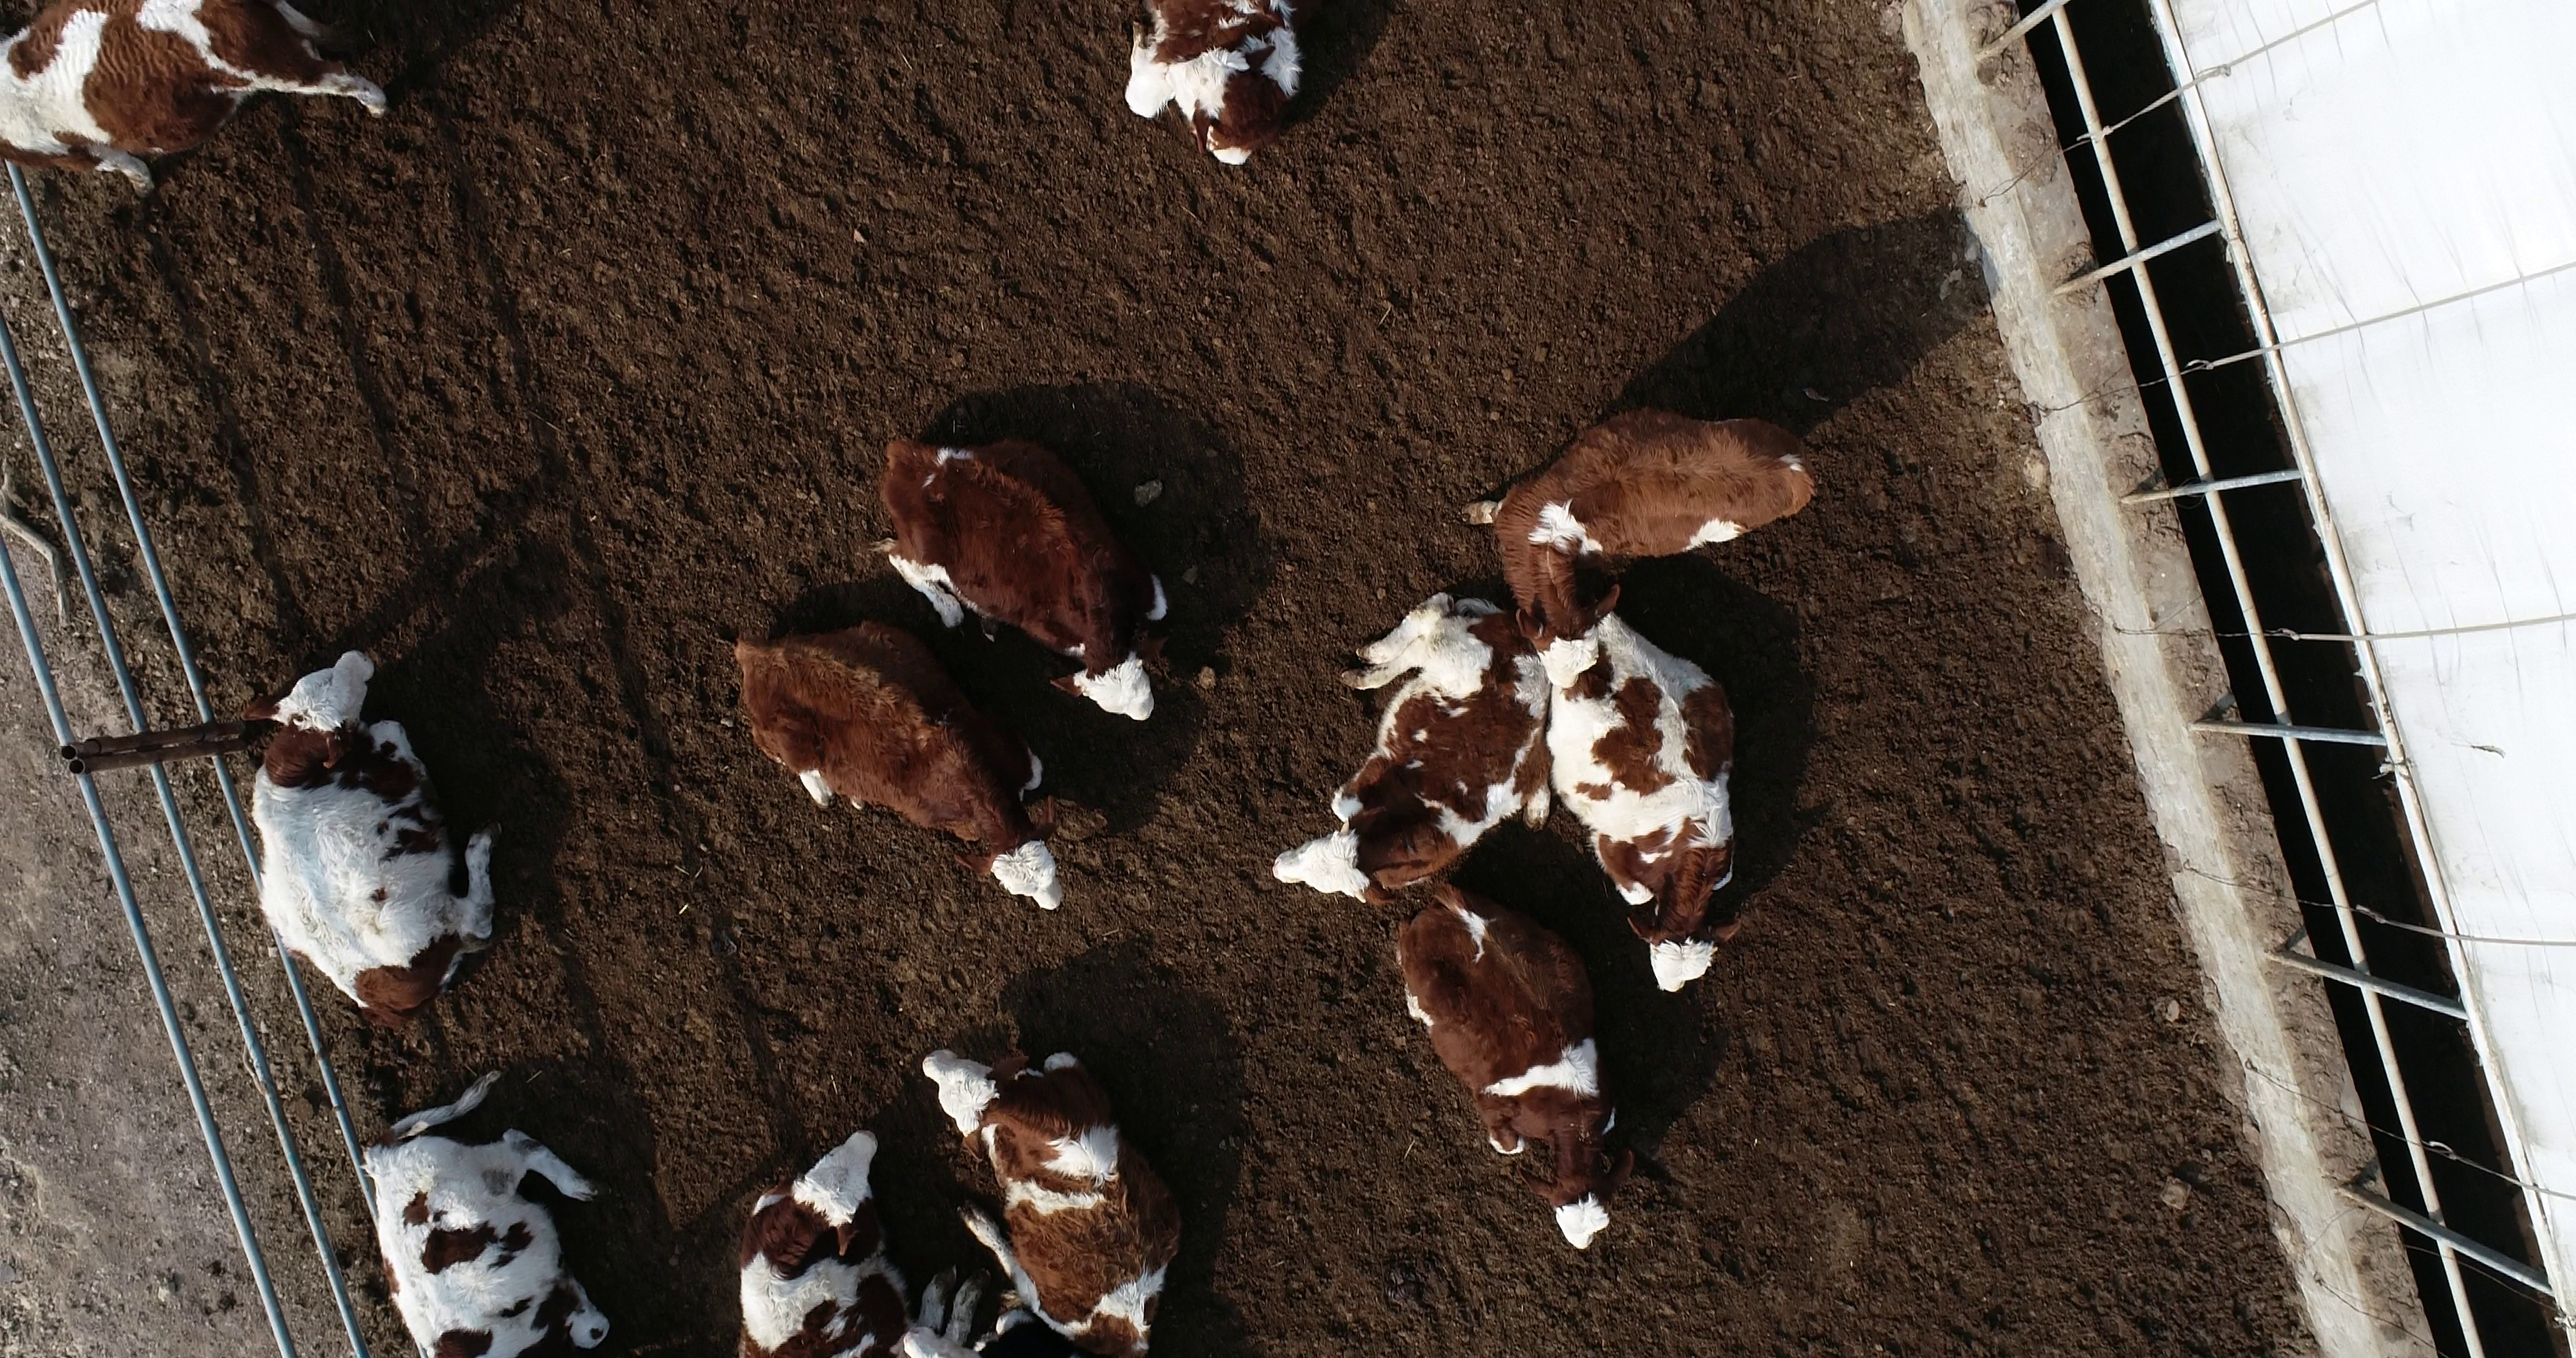cattle: (726, 612, 1077, 920), (1458, 397, 1823, 693), (239, 641, 503, 1027), (1385, 883, 1653, 1251), (1266, 584, 1557, 917), (867, 421, 1181, 722), (911, 1027, 1194, 1353), (1537, 576, 1748, 1002)
